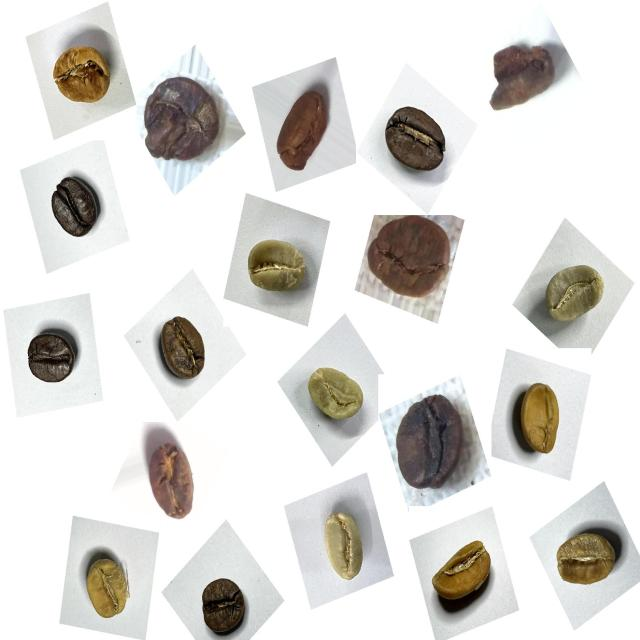bad: (384, 381, 475, 500), (136, 64, 231, 176), (362, 209, 458, 312), (265, 78, 338, 184), (482, 32, 564, 123), (138, 430, 204, 530)
dark: (378, 96, 456, 189), (42, 165, 111, 251), (15, 320, 84, 399), (191, 567, 256, 640)
green: (531, 252, 614, 341), (238, 224, 317, 309), (298, 356, 372, 436), (311, 502, 376, 590)
light: (426, 530, 504, 624), (43, 31, 121, 120), (546, 518, 628, 602), (503, 372, 574, 466), (77, 544, 144, 632)
medium: (150, 308, 217, 392)
